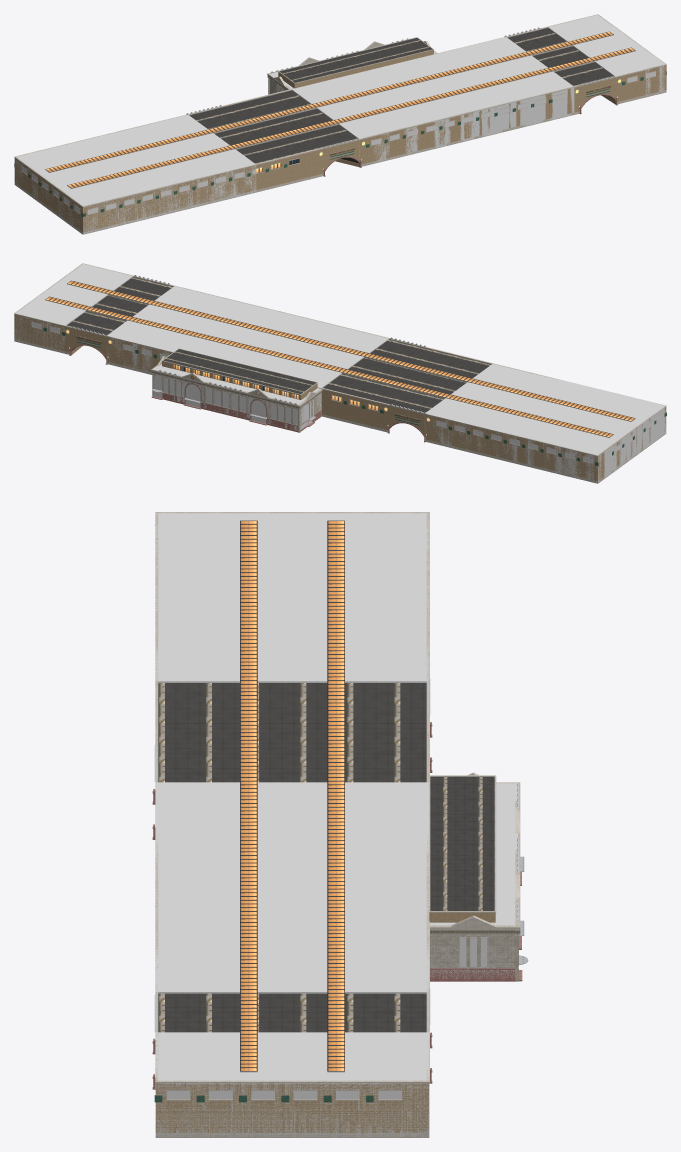
The model's file is newark-penn-station.glb.
3 renders of one model, top to bottom at view 1: azimuth 30°, elevation 25°; view 2: azimuth 150°, elevation 25°; view 3: azimuth 270°, elevation 25°, orthographic. The views are drawn at different scales.
Parts seen in each view (by area): view 1: newark-penn-station_COL, masonry-lod0, windows-lod0; view 2: newark-penn-station_COL, masonry-lod0, windows-lod0; view 3: newark-penn-station_COL, masonry-lod0, windows-lod0.
Part boxes in pixels (x1,y1,x2,y2): newark-penn-station_COL: [15, 15, 666, 234]; masonry-lod0: [14, 14, 666, 234]; windows-lod0: [45, 31, 635, 188]; newark-penn-station_COL: [14, 264, 666, 482]; masonry-lod0: [14, 263, 666, 483]; windows-lod0: [45, 280, 635, 437]; newark-penn-station_COL: [155, 512, 517, 1136]; masonry-lod0: [152, 512, 528, 1137]; windows-lod0: [240, 520, 344, 1071].
Size of what is drawn, in the model's own units: 367 by 20.15 by 102.
3 materials, 2 textured.
